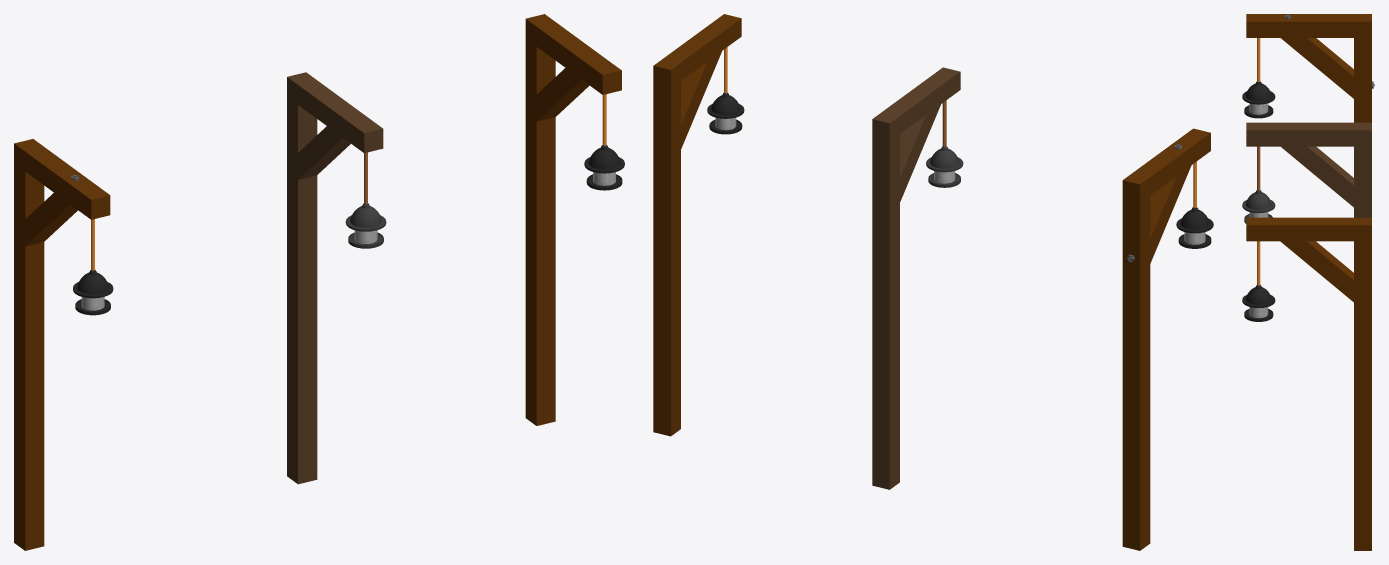
The model's file is light stand.fbx.
3 renders of one model, left to right at view 1: azimuth 30°, elevation 25°; view 2: azimuth 150°, elevation 25°; view 3: azimuth 270°, elevation 25°, orthographic. The views are drawn at different scales.
Parts seen in each view (by area): view 1: Group25, Group3, Group13, Group12, Group2, Difference, Difference1, Group8, Group24, Group18; view 2: Group25, Group3, Group13, Group12, Group2, Difference, Difference1, Group8, Group18, Group24; view 3: Group25, Group12, Group2, Group3, Group13, Difference1, Difference, Group8, Group24, Group18, Group6, Group5 (+2 smaller).
Part boxes in pixels (box(x1,y1,x2,y2)): Group25: box(525, 14, 621, 425); Group3: box(14, 139, 44, 550); Group13: box(287, 72, 317, 484); Group12: box(298, 80, 383, 153); Group2: box(25, 147, 110, 219); Difference: box(25, 193, 77, 246); Difference1: box(298, 126, 350, 179); Group8: box(73, 270, 113, 298); Group24: box(584, 145, 624, 173); Group18: box(345, 203, 386, 231); Group25: box(653, 14, 741, 436); Group3: box(1122, 173, 1150, 550); Group13: box(872, 112, 899, 489); Group12: box(882, 67, 960, 133); Group2: box(1133, 128, 1210, 194); Difference: box(1150, 165, 1191, 263); Difference1: box(900, 104, 940, 201); Group8: box(1176, 207, 1213, 233); Group18: box(926, 146, 963, 172); Group24: box(707, 93, 744, 118); Group25: box(1246, 217, 1371, 550); Group12: box(1246, 122, 1353, 146); Group2: box(1246, 14, 1353, 37); Group3: box(1354, 14, 1371, 122); Group13: box(1354, 122, 1371, 217); Difference1: box(1281, 146, 1353, 207); Difference: box(1281, 38, 1353, 98); Group8: box(1242, 81, 1275, 104); Group24: box(1242, 285, 1275, 308); Group18: box(1242, 190, 1275, 213); Group6: box(1249, 103, 1268, 114); Group5: box(1244, 105, 1273, 118).
Bounding box in the file's own units: 2.86 × 2.02 × 0.7368.
